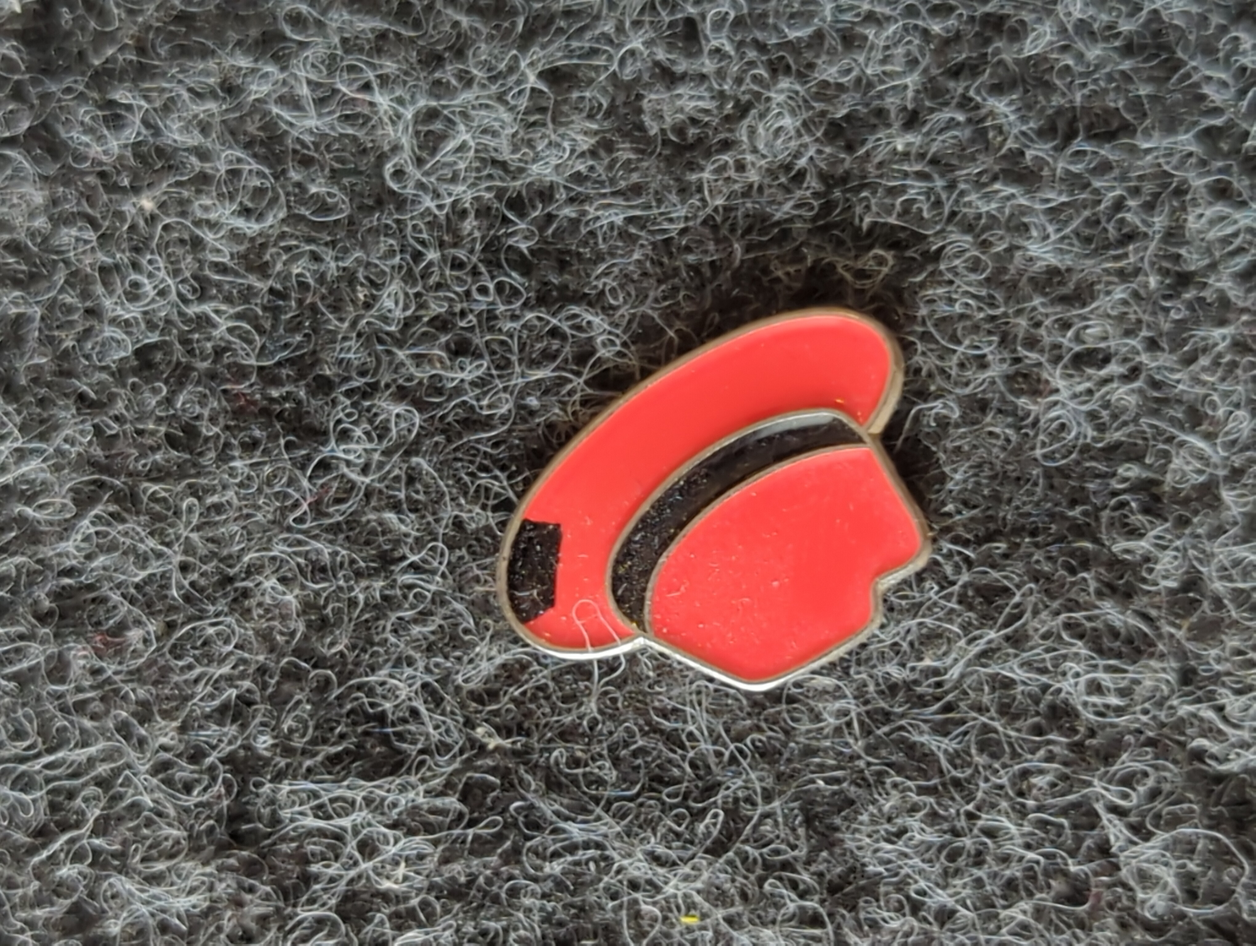Red-Hat: (383, 213, 1076, 839)
Scratch: (473, 478, 627, 653)
